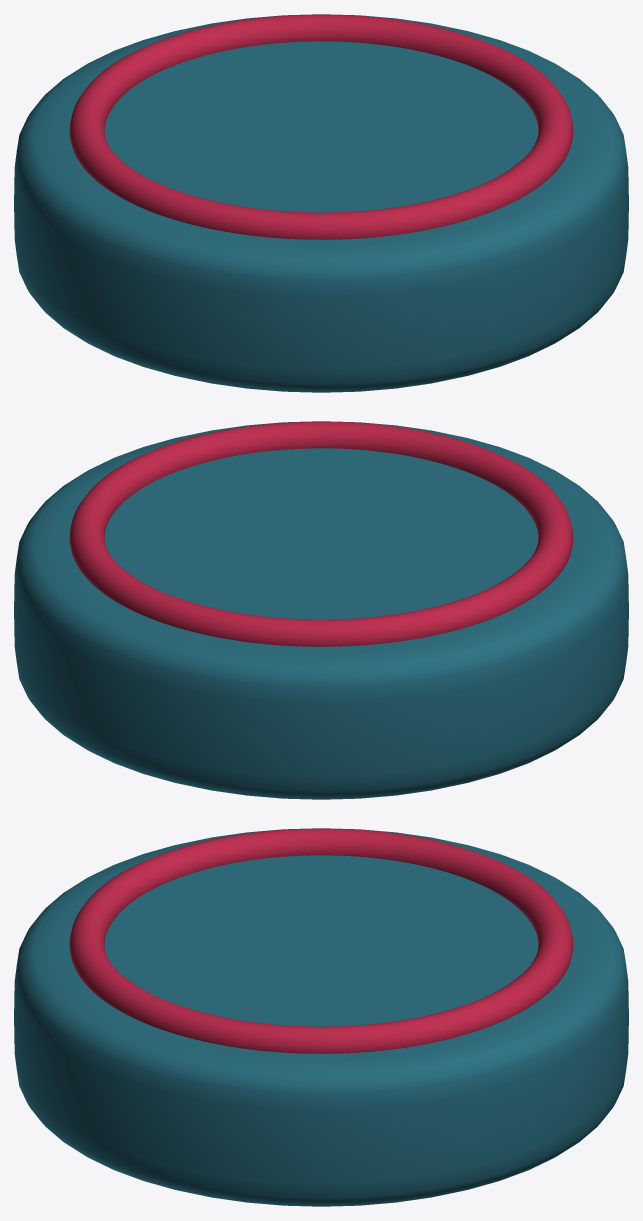
Rendered from Puck.FBX.
3 renders of one model, top to bottom at view 1: azimuth 30°, elevation 25°; view 2: azimuth 150°, elevation 25°; view 3: azimuth 270°, elevation 25°, orthographic.
Parts seen in each view (by area): view 1: Cylinder001; view 2: Cylinder001; view 3: Cylinder001.
Part boxes in pixels (bbox=[...]): Cylinder001: bbox=[14, 14, 628, 392]; Cylinder001: bbox=[14, 421, 628, 799]; Cylinder001: bbox=[14, 828, 628, 1206].
Size of the model in its own units: 78.07 by 78.07 by 22.22.
